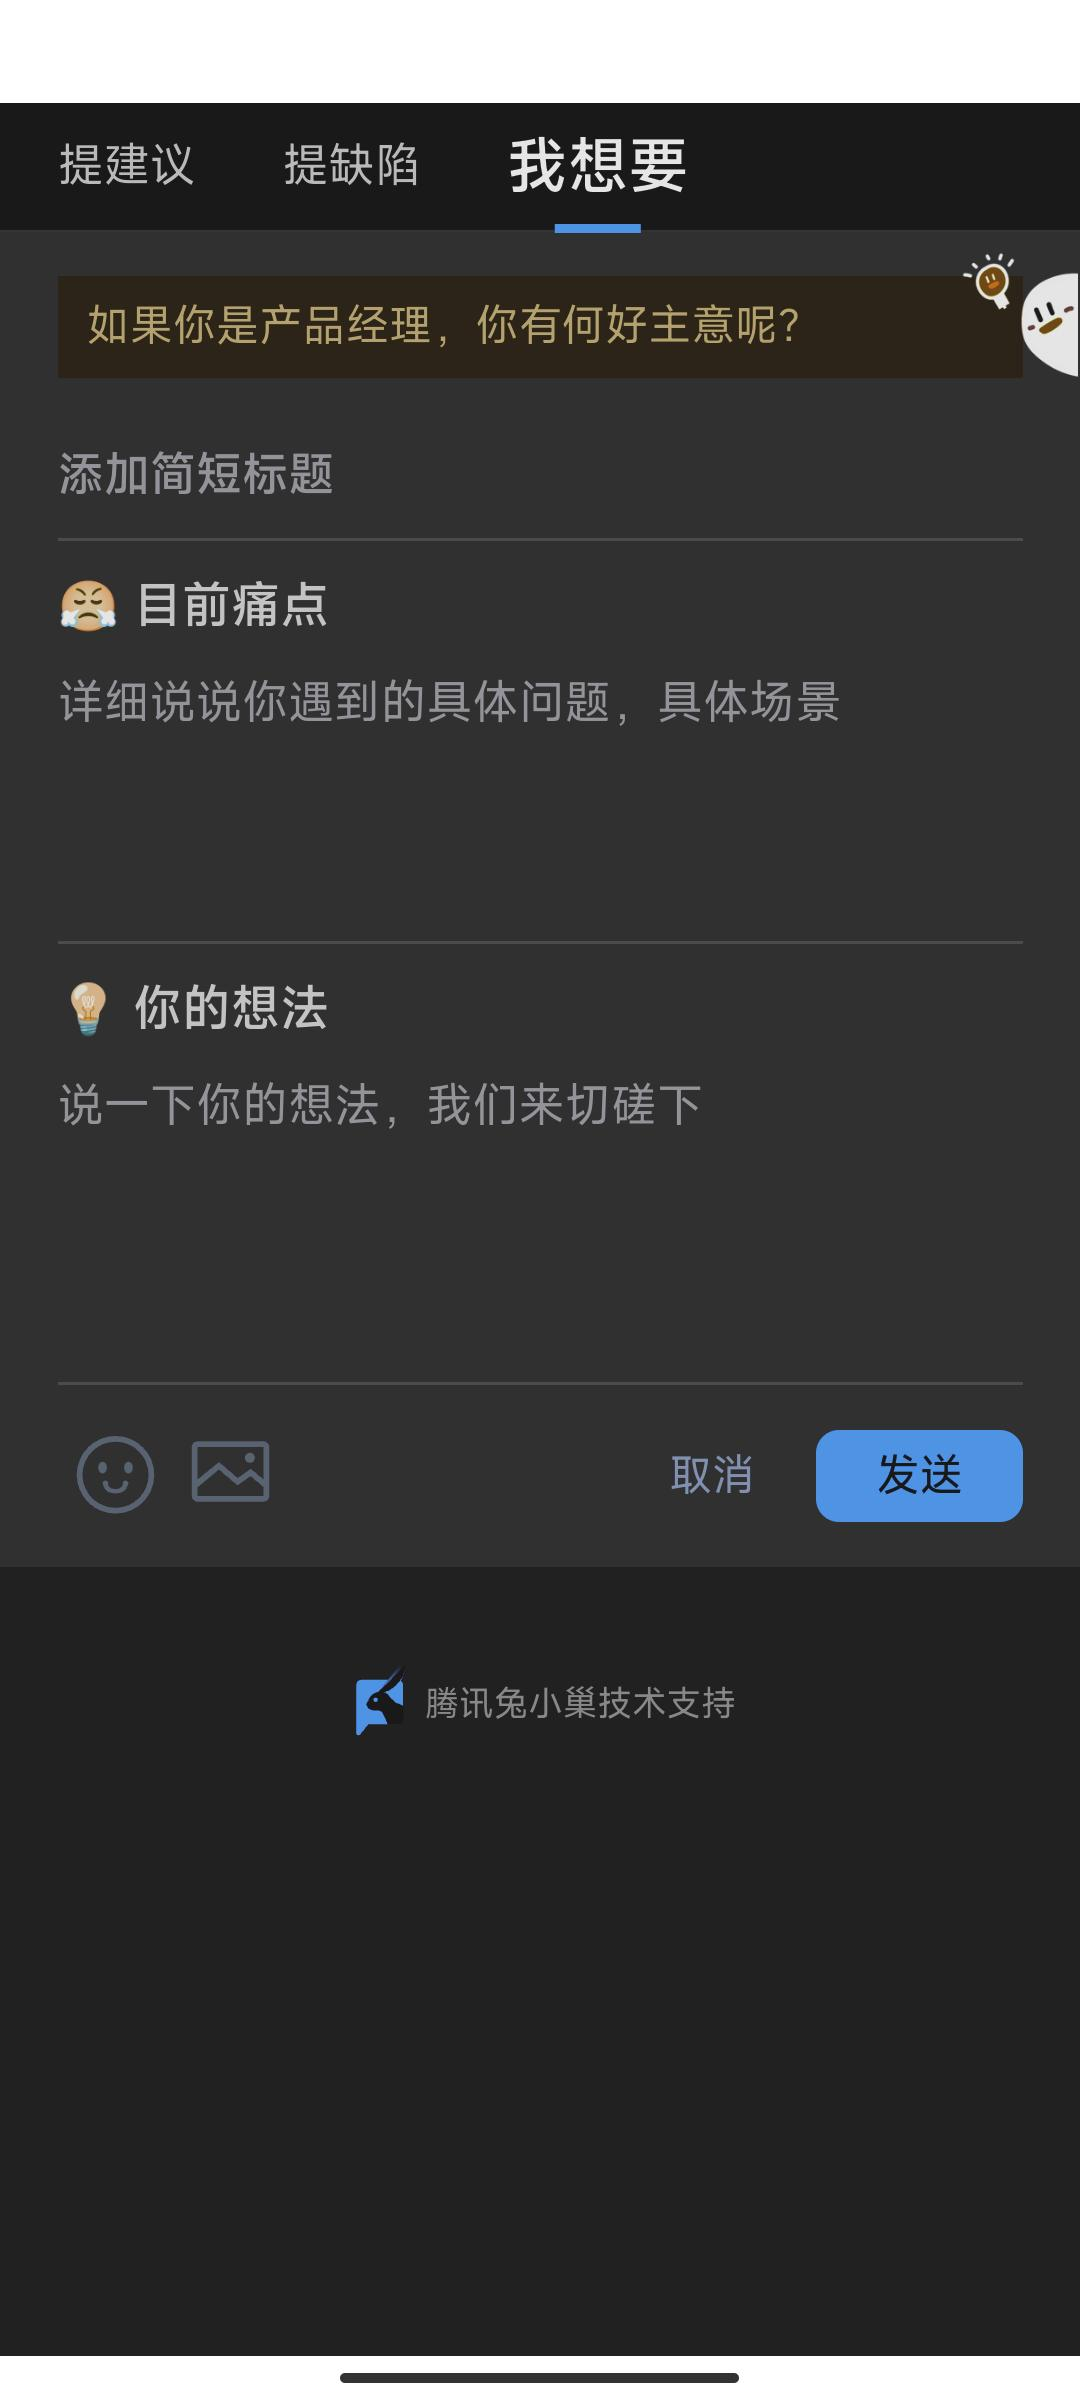ui_group: (52, 553, 1002, 940), (812, 1430, 1025, 1531), (46, 124, 220, 233)
